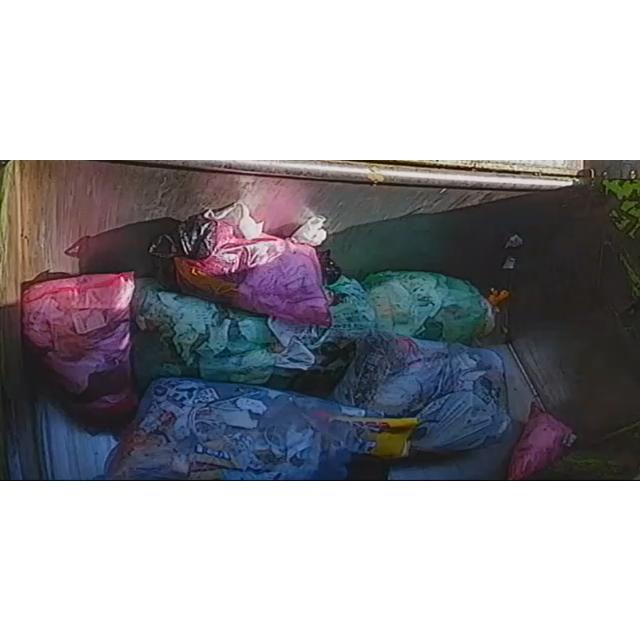general_trashbag: (132, 278, 284, 394), (362, 270, 495, 342), (302, 275, 376, 370)
other_trashbag: (115, 378, 420, 479), (334, 332, 510, 450), (174, 202, 329, 325), (21, 272, 138, 426), (508, 412, 574, 480)
